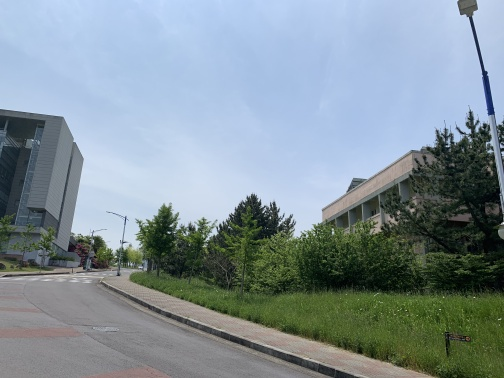College Of Education: (312, 143, 504, 265)
